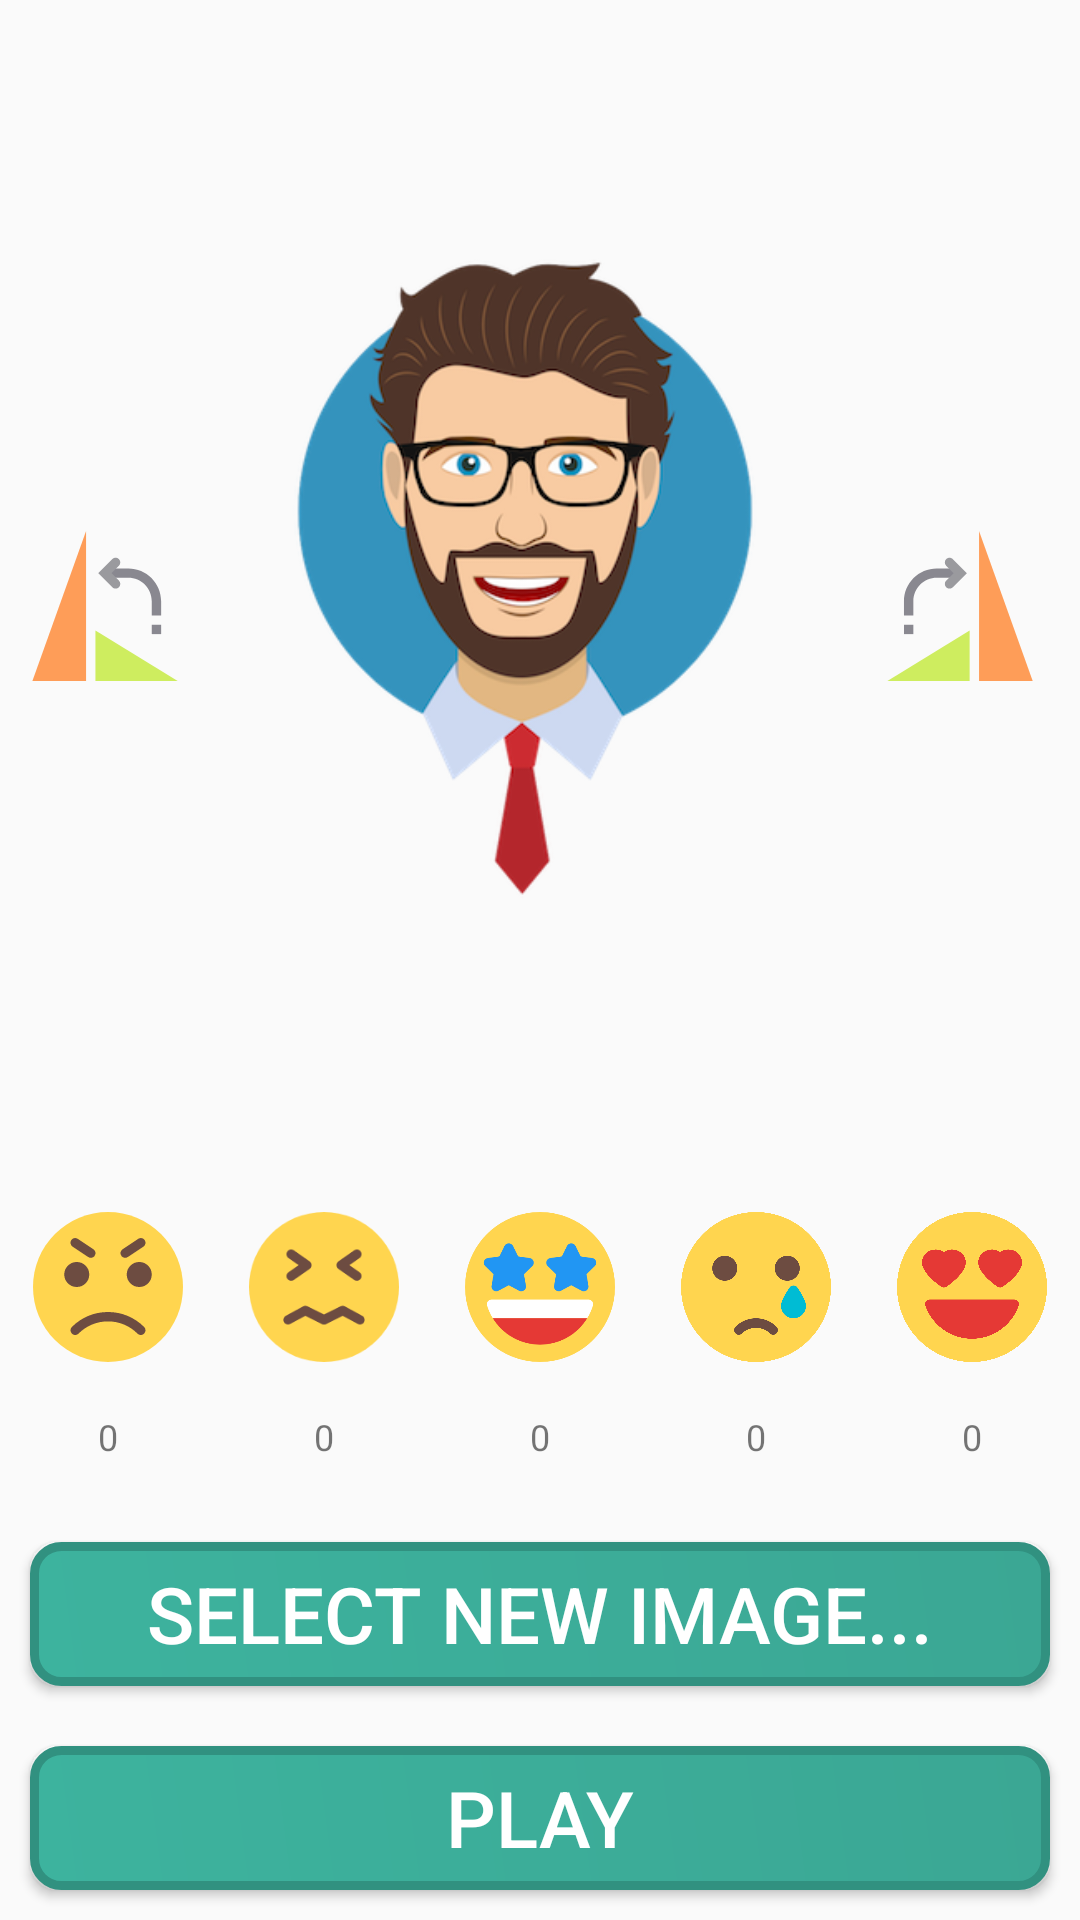

Screen size 1080px×1920px. Icon name, then its center in pixels as (x,y):
anger: (108,1287)
fear: (324,1287)
rotate left: (104,606)
rotate right: (960,606)
sad: (756,1287)
